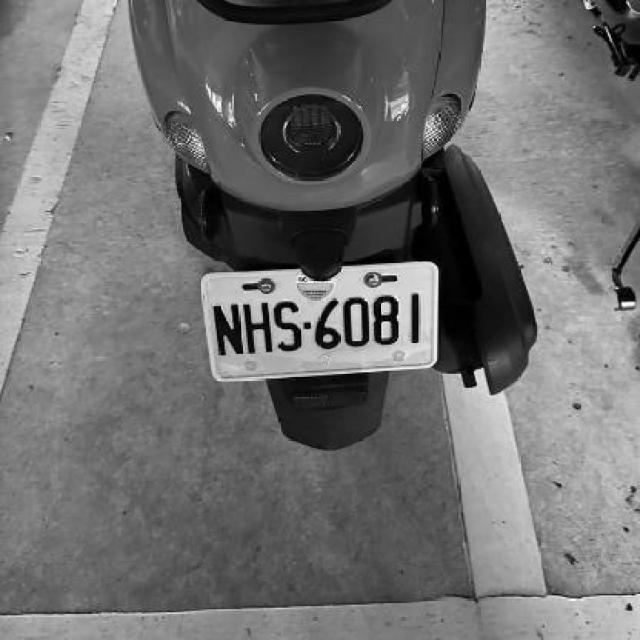0: (343, 296, 371, 352)
1: (406, 289, 420, 348)
6: (311, 292, 343, 352)
8: (369, 296, 398, 350)
H: (243, 298, 274, 356)
N: (211, 302, 243, 358)
S: (272, 300, 305, 355)
